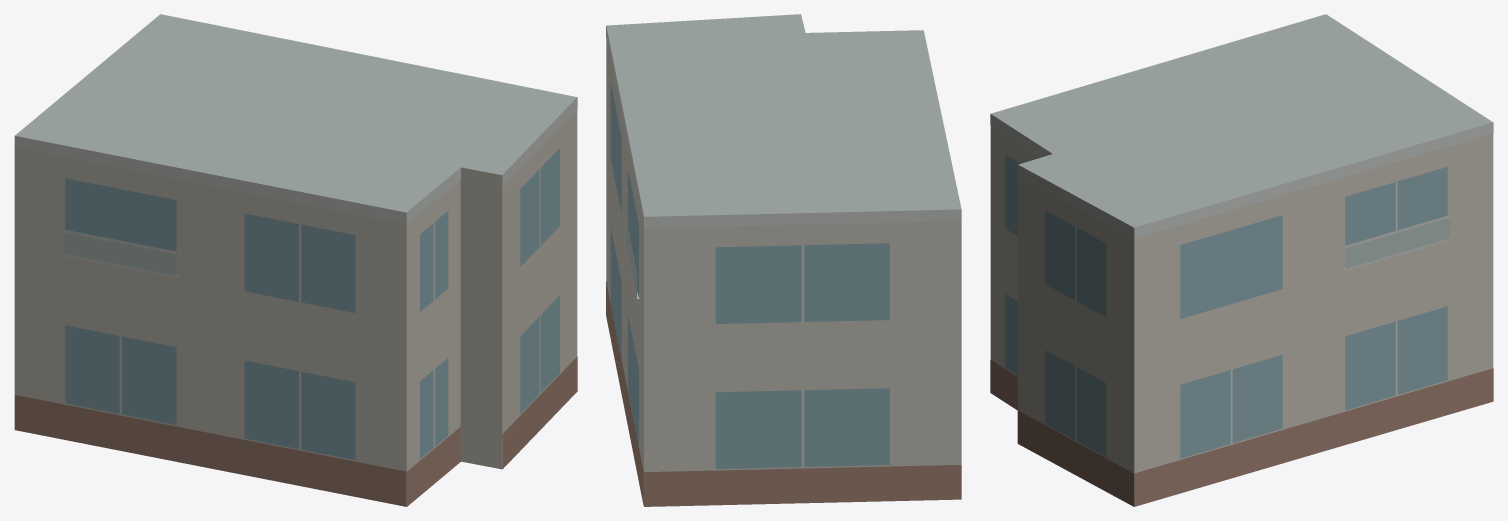
File: survey-upis-32766251.glb
The picture shows the model from 3 angles, left to right: view 1: azimuth 30°, elevation 25°; view 2: azimuth 150°, elevation 25°; view 3: azimuth 270°, elevation 25°; orthographic projection. The views are drawn at different scales.
Parts seen in each view (by area): view 1: survey-upis-32766251.tmp; view 2: survey-upis-32766251.tmp; view 3: survey-upis-32766251.tmp.
Boxes of the visible parts, box(x1,y1,x2,y2) form: survey-upis-32766251.tmp: box(14, 14, 577, 506); survey-upis-32766251.tmp: box(606, 14, 961, 506); survey-upis-32766251.tmp: box(990, 14, 1493, 506).
Size of the model in its own units: 10.02 by 6.1 by 9.97.
